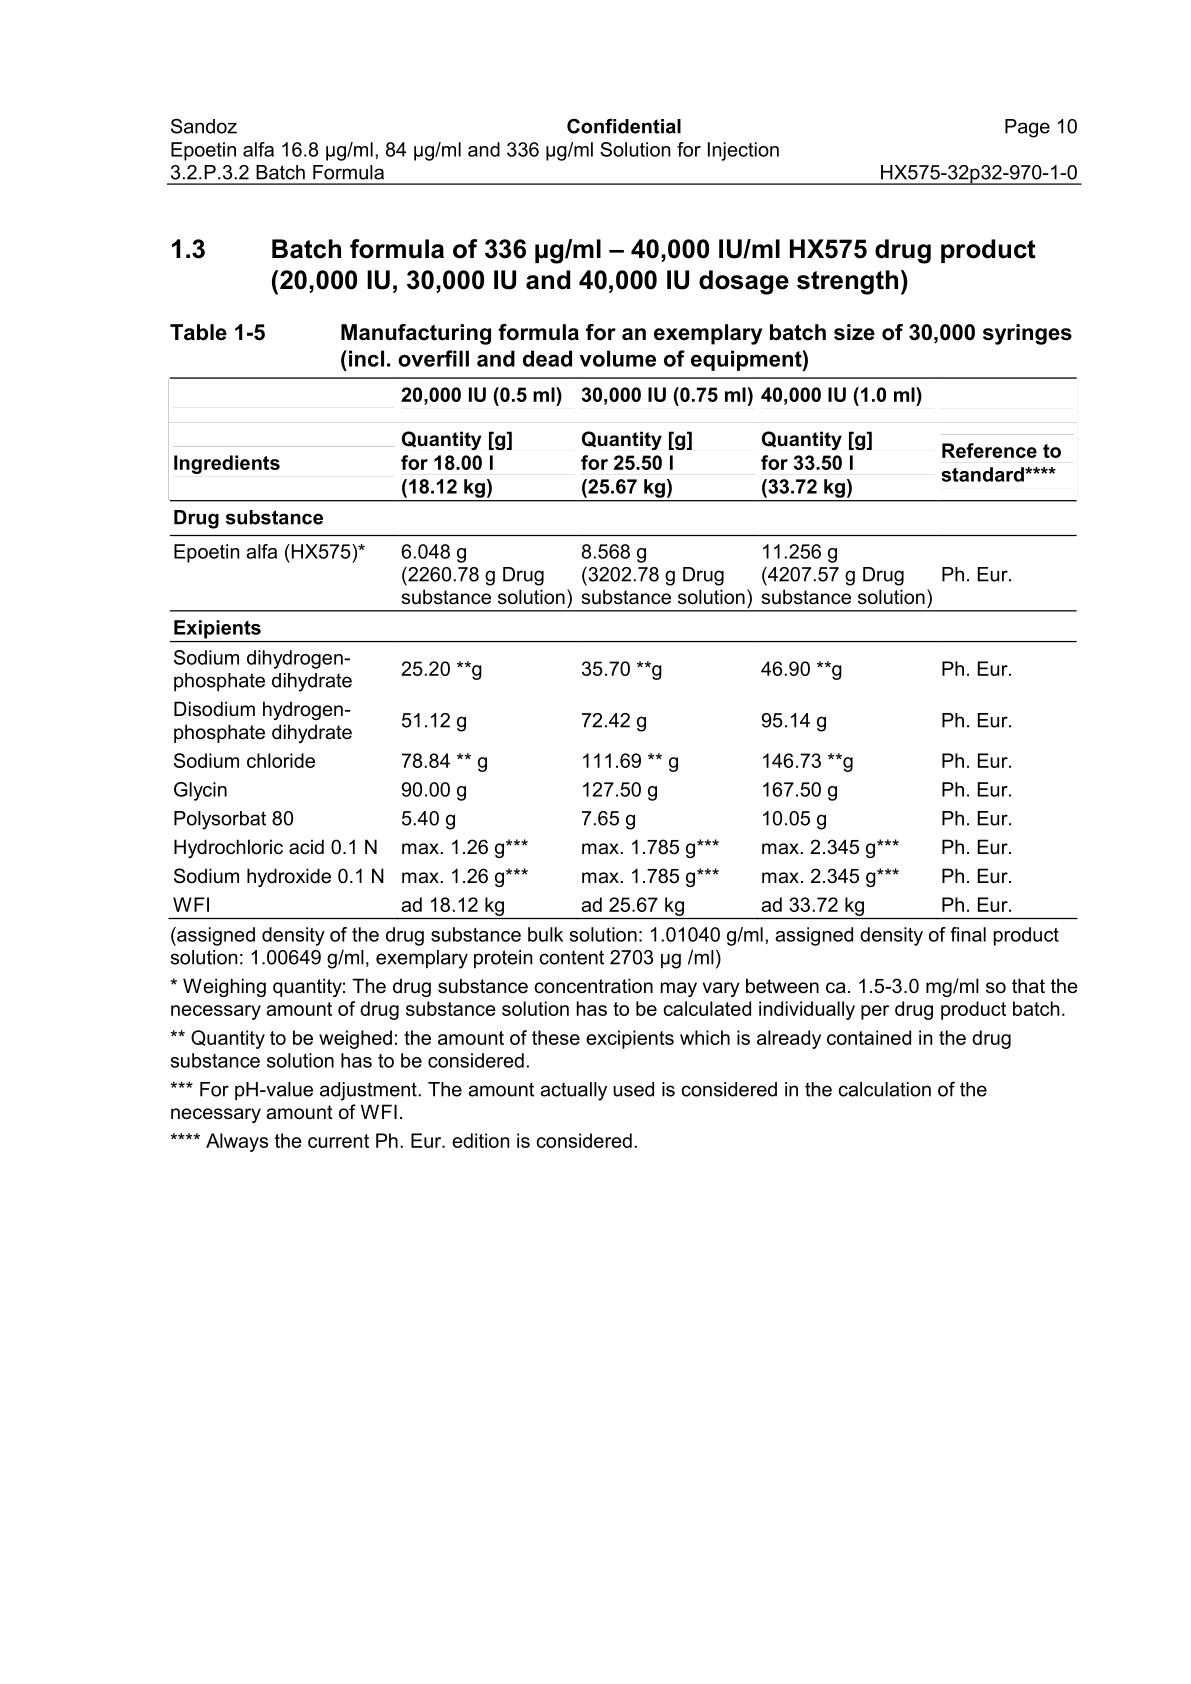partial_lined_merged_cells: (168, 378, 1078, 920)
